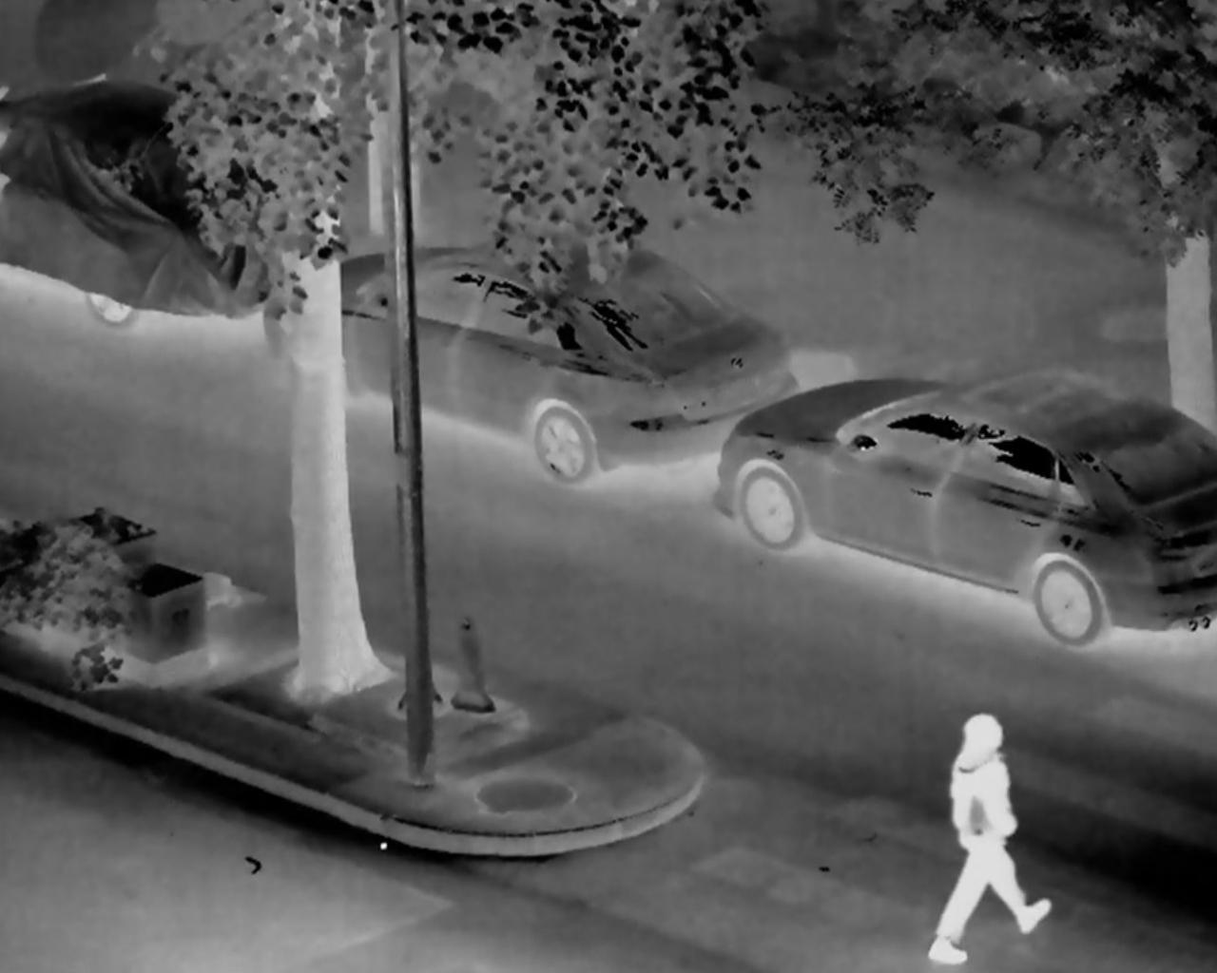person: (923, 709, 1051, 972)
